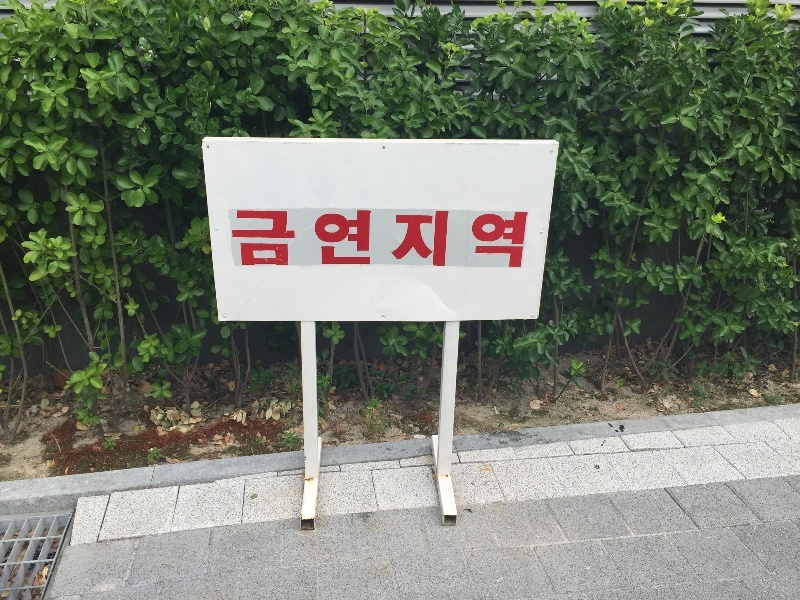text: (241, 210, 256, 268), (257, 210, 272, 268), (273, 210, 288, 268), (289, 210, 304, 268), (305, 210, 320, 268), (321, 210, 336, 268), (337, 210, 352, 268), (353, 210, 368, 268), (369, 210, 384, 268), (385, 210, 400, 268), (401, 210, 416, 268), (417, 210, 432, 268), (433, 210, 448, 268), (449, 210, 464, 268), (465, 210, 480, 268), (481, 210, 496, 268), (497, 210, 512, 268), (513, 210, 528, 268), (237, 210, 240, 268)
